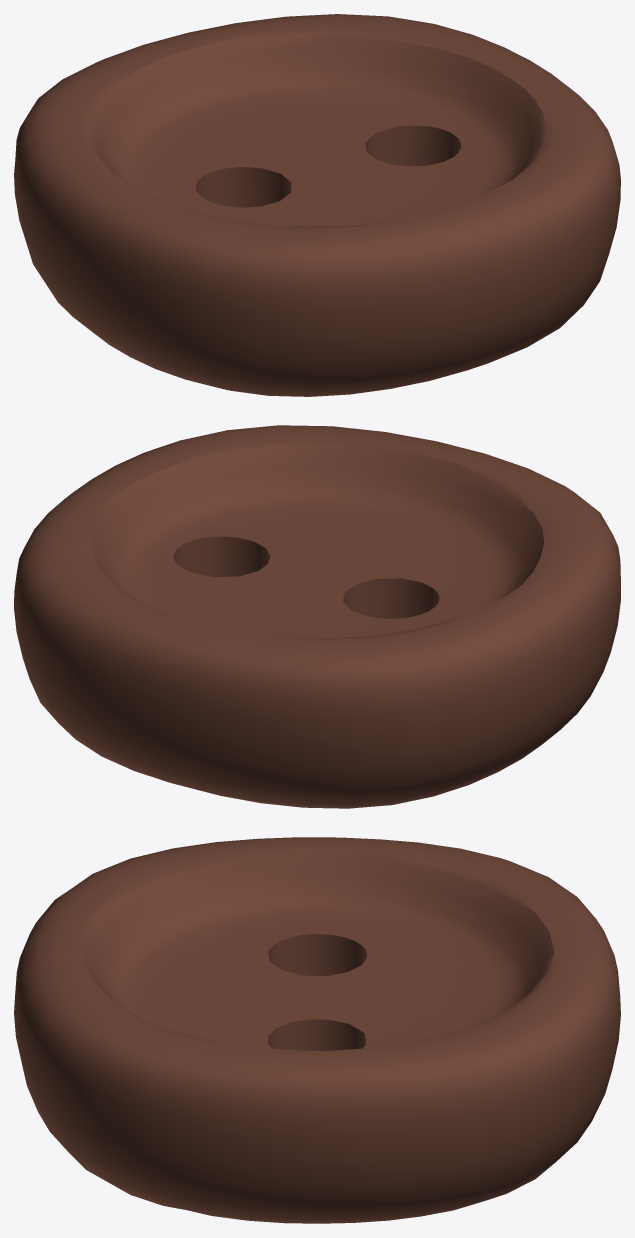
The model's file is pugovica.fbx.
3 views of the same model, one above another, from view 1: azimuth 30°, elevation 25°; view 2: azimuth 150°, elevation 25°; view 3: azimuth 270°, elevation 25° (orthographic). The views are drawn at different scales.
Visible parts, largest first — view 1: Retopo_Cube; view 2: Retopo_Cube; view 3: Retopo_Cube.
Part boxes in pixels (bbox=[...]): Retopo_Cube: bbox=[14, 14, 620, 396]; Retopo_Cube: bbox=[14, 425, 620, 808]; Retopo_Cube: bbox=[14, 837, 620, 1223].
Size of the model in its own units: 183 by 66.7 by 183.
